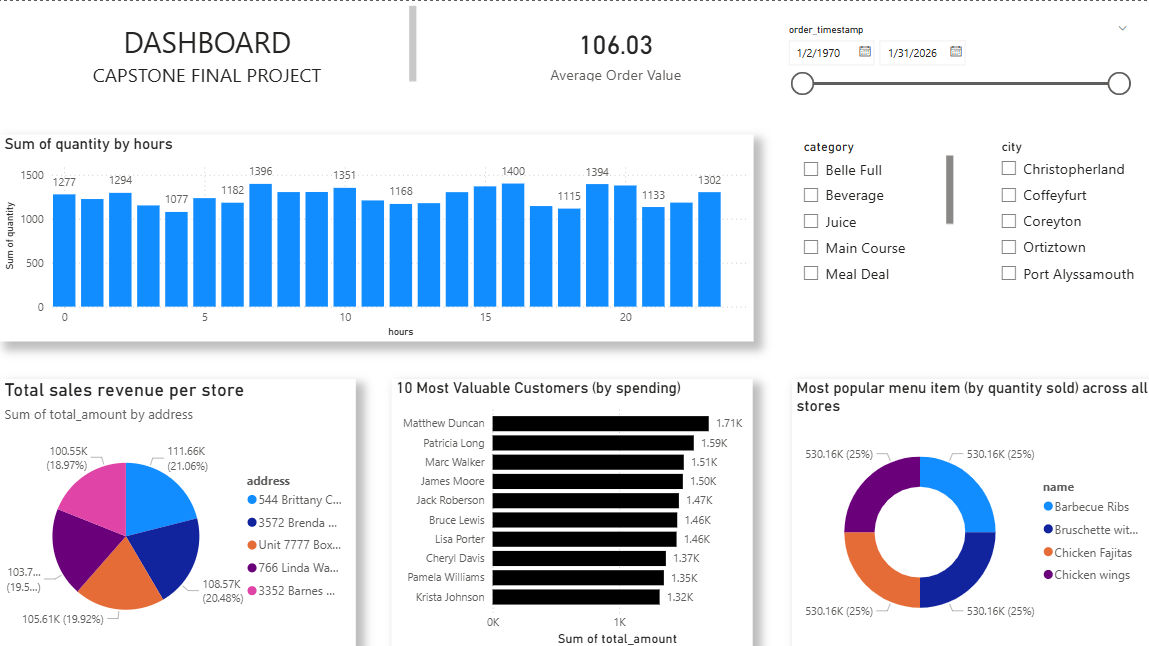

What the dashboard file says about the page in this screenshot:
{"tool":"powerbi","page":{"name":"Page 1","canvas":[1280,720],"ordinal":0},"visuals":[{"type":"pieChart","title":"Total sales revenue per store","fields":{"Category":["public stores.address"],"Y":["Sum(public orders.total_amount)"]},"box":[0,419.4,395.1,301.2],"z":0},{"type":"clusteredBarChart","title":"10 Most Valuable Customers (by spending)","fields":{"Category":["public customers.fullname"],"Y":["Sum(public orders.total_amount)"]},"box":[435.6,419.4,401.6,301.2],"z":1000},{"type":"donutChart","title":"Most popular menu item (by quantity sold) across all stores","fields":{"Category":["public menu_items.name"],"Y":["Sum(public orders.total_amount)"]},"box":[879.2,419.4,401.6,301.2],"z":2000},{"type":"card","fields":{"Values":["Avg(public orders.total_amount)"]},"box":[505.2,19.4,357.8,74.5],"z":3000},{"type":"columnChart","fields":{"Y":["Sum(public order_items.quantity)"],"Category":["public orders.hours"]},"box":[0,149,837.1,229.9],"z":4000},{"type":"slicer","fields":{"Values":["public stores.city"]},"box":[1099.5,149,181.4,176.5],"z":5000},{"type":"slicer","fields":{"Values":["public orders.order_timestamp"]},"box":[863,19.4,401.6,110.1],"z":6000},{"type":"textbox","box":[0,0,468,105.2],"z":7000},{"type":"slicer","fields":{"Values":["public menu_items.category"]},"box":[879.2,149,184.6,176.5],"z":7001}]}

Visuals, with their boxes in screenshot pixels (x1, y1, x2, y2), scaled from the page's 1280x720 canvas onto the 1149x646 screenshot:
"Total sales revenue per store" pieChart: l=0, t=376, r=355, b=645
"10 Most Valuable Customers (by spending)" clusteredBarChart: l=391, t=376, r=752, b=645
"Most popular menu item (by quantity sold) across all stores" donutChart: l=789, t=376, r=1148, b=645
card - Avg(public orders.total_amount): l=453, t=17, r=775, b=84
columnChart - Sum(public order_items.quantity) x public orders.hours: l=0, t=134, r=751, b=340
slicer - public stores.city: l=987, t=134, r=1148, b=292
slicer - public orders.order_timestamp: l=775, t=17, r=1135, b=116
textbox: l=0, t=0, r=420, b=94
slicer - public menu_items.category: l=789, t=134, r=955, b=292
